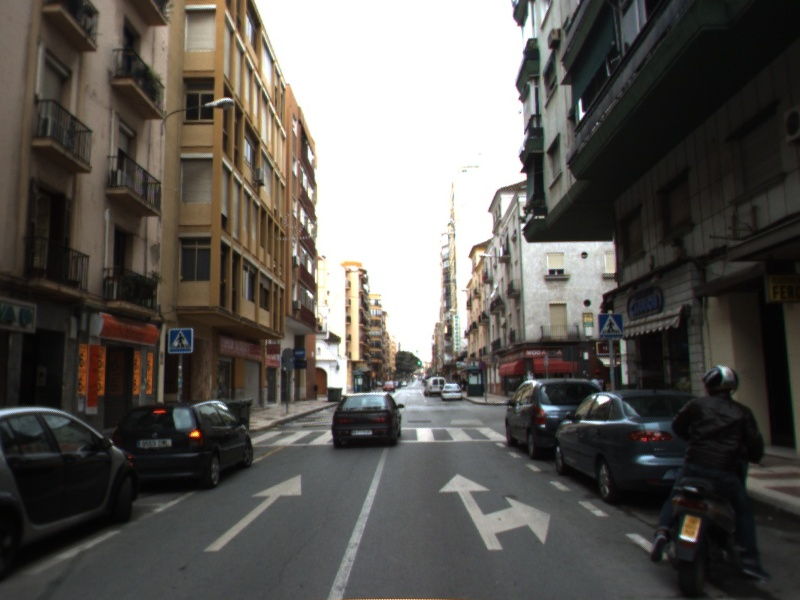STRAIGHT: (201, 472, 303, 553)
STRAIGHT_RIGHT: (437, 472, 552, 552)
